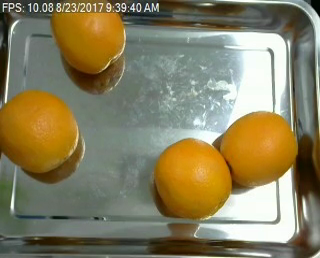Orange: (0, 89, 79, 172), (154, 136, 232, 218), (221, 109, 299, 186), (48, 12, 125, 74)
